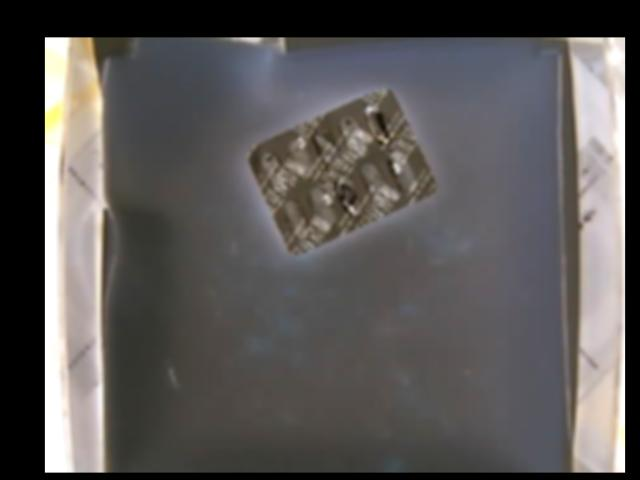Medicine: (247, 86, 438, 254)
